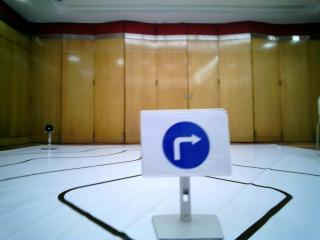right: (143, 113, 226, 175)
